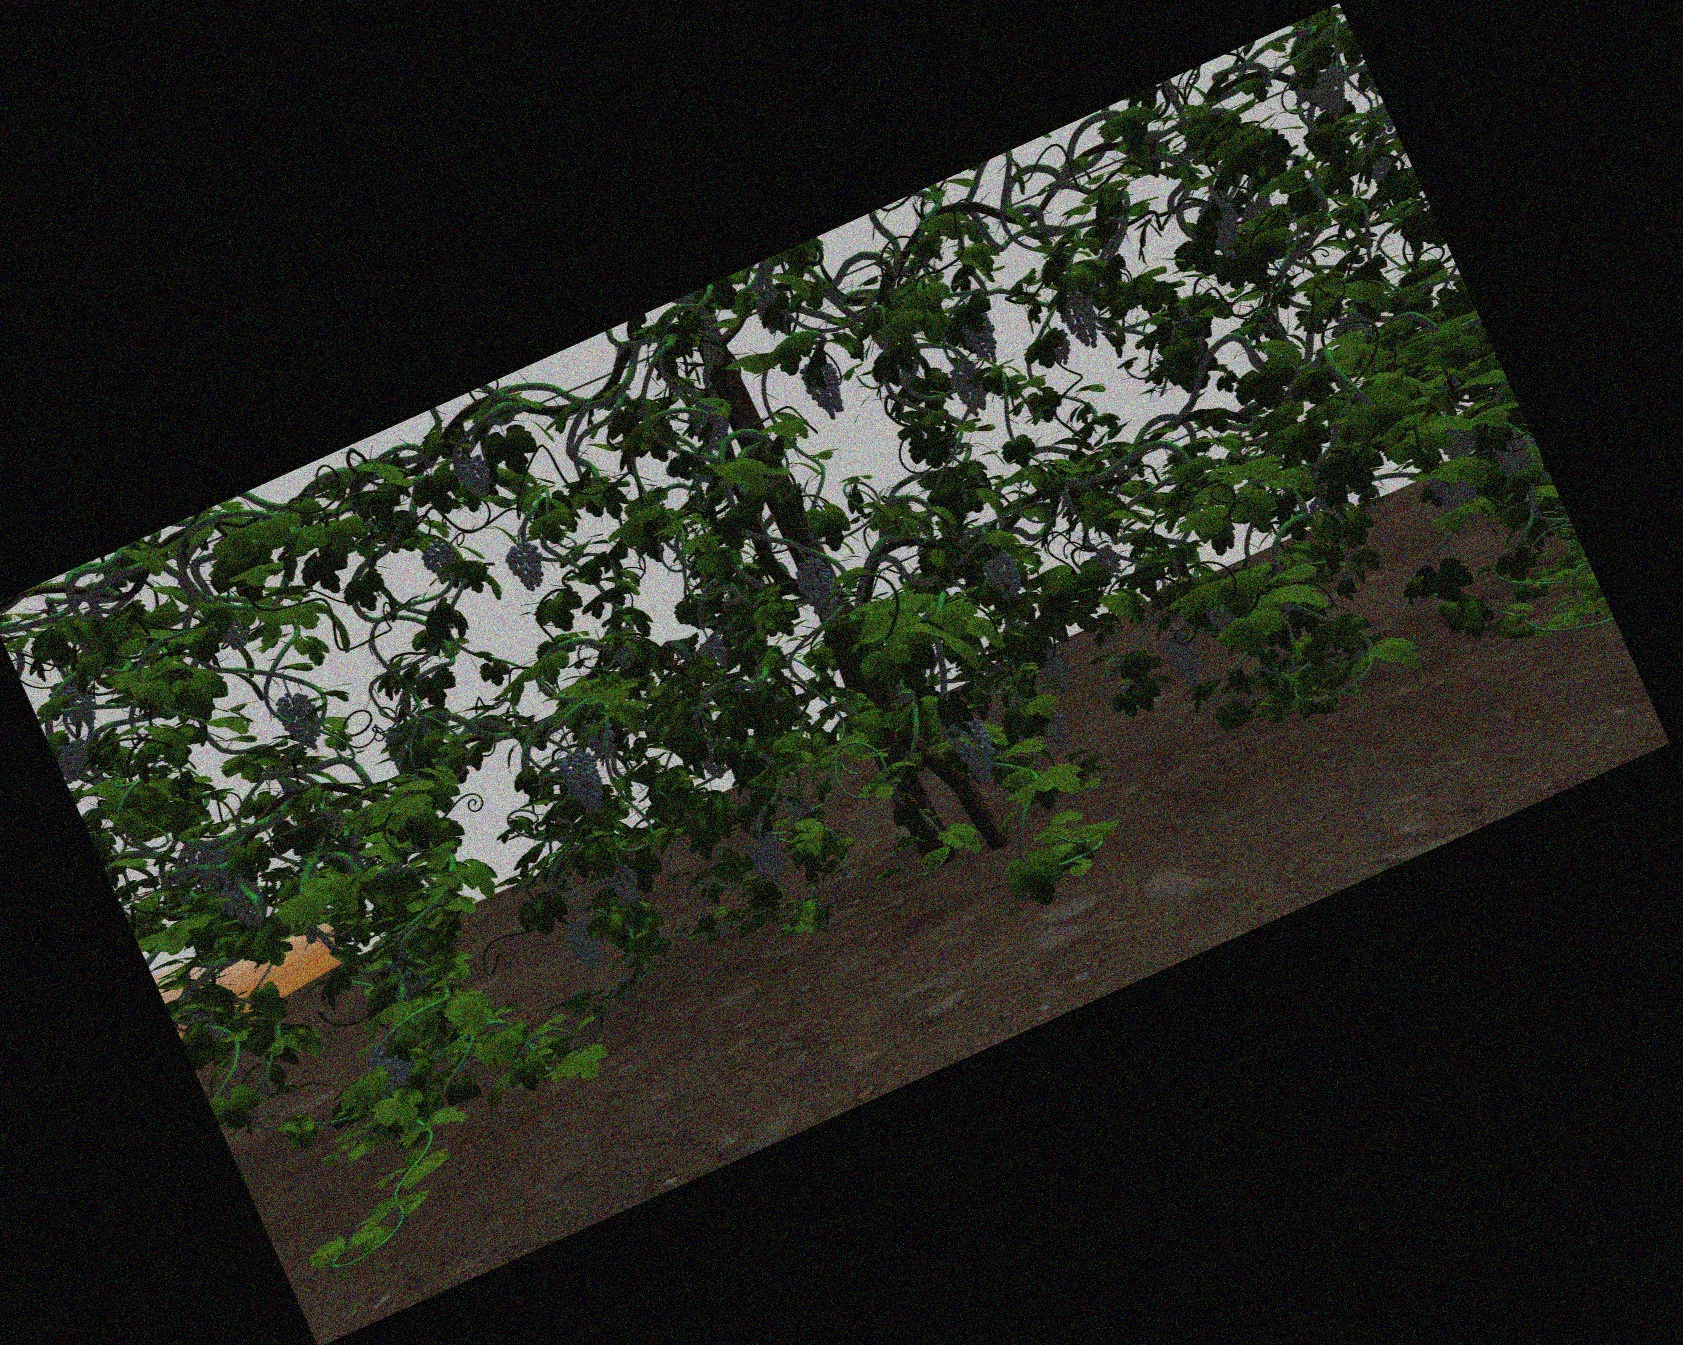grape: (1299, 69, 1347, 119), (958, 719, 995, 784), (281, 690, 320, 749), (800, 556, 836, 618), (1205, 194, 1240, 257), (807, 360, 844, 417), (567, 751, 601, 810), (1167, 631, 1200, 688), (1063, 290, 1095, 344), (751, 834, 787, 882), (222, 878, 261, 922), (373, 1042, 409, 1088), (955, 360, 986, 413), (509, 541, 544, 587), (966, 312, 997, 362), (568, 920, 599, 969), (1433, 471, 1474, 506), (1042, 646, 1072, 694), (459, 454, 490, 497), (990, 554, 1020, 598), (611, 865, 640, 904), (196, 848, 228, 882), (59, 742, 91, 775), (1496, 442, 1529, 473), (424, 543, 454, 578), (1045, 711, 1071, 749), (700, 635, 728, 667), (1093, 545, 1120, 574), (225, 624, 253, 648)
